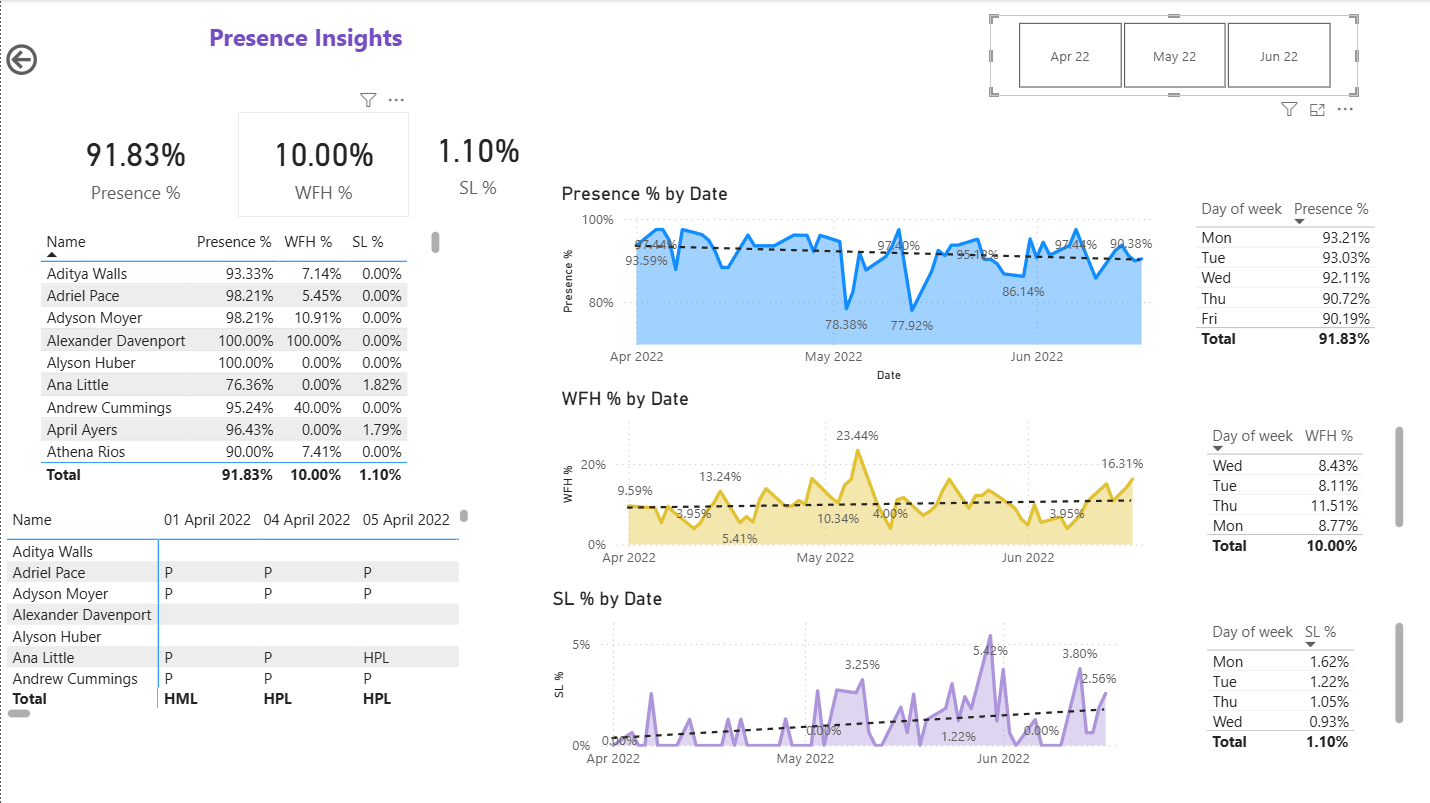

Layout of this report page (visuals, bound fields, positions):
{"tool":"powerbi","page":{"name":"Page 1","canvas":[1280,720],"ordinal":0},"visuals":[{"type":"card","fields":{"Values":["Measure Table.Presence %"]},"box":[41.2,100.3,158.5,94],"z":0},{"type":"slicer","fields":{"Values":["Final Data.Month"]},"box":[886.1,13.6,328.8,72],"z":1000},{"type":"card","fields":{"Values":["Measure Table.WFH %"]},"box":[212.2,100.3,153.1,94],"z":2000},{"type":"card","fields":{"Values":["Measure Table.SL %"]},"box":[365.4,100.3,123.6,86],"z":3000},{"type":"actionButton","box":[0,35,460.1,37],"z":4000},{"type":"textbox","box":[71.6,13.4,402.1,58.2],"z":5000},{"type":"tableEx","fields":{"Values":["Final Data.Name","Measure Table.Presence %","Measure Table.WFH %","Measure Table.SL %"]},"box":[29.6,201.5,369,237.3],"z":6000},{"type":"pivotTable","fields":{"Rows":["Final Data.Name"],"Values":["Min(Final Data.Value)"],"Columns":["Final Data.Date"]},"box":[0,450.4,423.6,197.9],"z":7000},{"type":"areaChart","fields":{"Category":["Final Data.Date"],"Y":["Measure Table.Presence %"]},"box":[497,163,553.4,183.6],"z":8000},{"type":"areaChart","fields":{"Category":["Final Data.Date"],"Y":["Measure Table.WFH %"]},"box":[497,346.6,545.4,171],"z":9000},{"type":"areaChart","fields":{"Category":["Final Data.Date"],"Y":["Measure Table.SL %"]},"box":[489,525.7,529.3,171.9],"z":10000},{"type":"tableEx","fields":{"Values":["Final Data.Day of week","Measure Table.Presence %"]},"box":[1064.1,173.1,197.4,155.6],"z":11000},{"type":"tableEx","fields":{"Values":["Final Data.Day of week","Measure Table.WFH %"]},"box":[1073.8,376.4,187.7,125.5],"z":12000},{"type":"tableEx","fields":{"Values":["Final Data.Day of week","Measure Table.SL %"]},"box":[1073.8,551.5,187.7,125.5],"z":13000}]}

Visuals, with their boxes on the page's 1280x720 design canvas (x1, y1, x2, y2). These are canvas units, not pixel positions in the 1430x803 screenshot, which may show the page scaled, cropped or inside an application window:
card - Measure Table.Presence %: [left=41, top=100, right=200, bottom=194]
slicer - Final Data.Month: [left=886, top=14, right=1215, bottom=86]
card - Measure Table.WFH %: [left=212, top=100, right=365, bottom=194]
card - Measure Table.SL %: [left=365, top=100, right=489, bottom=186]
actionButton: [left=0, top=35, right=460, bottom=72]
textbox: [left=72, top=13, right=474, bottom=72]
tableEx - Final Data.Name x Measure Table.Presence %: [left=30, top=202, right=399, bottom=439]
pivotTable - Final Data.Name x Min(Final Data.Value): [left=0, top=450, right=424, bottom=648]
areaChart - Final Data.Date x Measure Table.Presence %: [left=497, top=163, right=1050, bottom=347]
areaChart - Final Data.Date x Measure Table.WFH %: [left=497, top=347, right=1042, bottom=518]
areaChart - Final Data.Date x Measure Table.SL %: [left=489, top=526, right=1018, bottom=698]
tableEx - Final Data.Day of week x Measure Table.Presence %: [left=1064, top=173, right=1262, bottom=329]
tableEx - Final Data.Day of week x Measure Table.WFH %: [left=1074, top=376, right=1262, bottom=502]
tableEx - Final Data.Day of week x Measure Table.SL %: [left=1074, top=552, right=1262, bottom=677]
